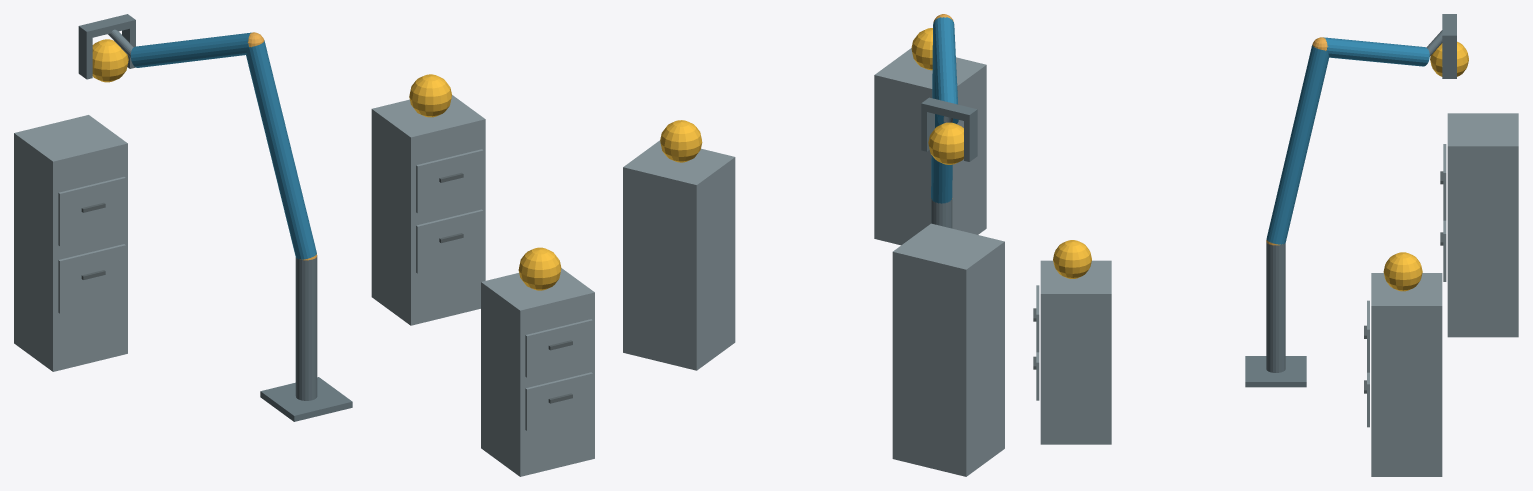
3 renders of one model, left to right at view 1: azimuth 30°, elevation 25°; view 2: azimuth 150°, elevation 25°; view 3: azimuth 270°, elevation 25°, orthographic. The views are drawn at different scales.
Visible parts, largest first — view 1: cabinet_3 body, cabinet_2 body, cabinet_1 body, moving link 1, cabinet_3 drawer front.001, cabinet_3 drawer front, cabinet_2 drawer front, cabinet_2 drawer front.001, fixed post, cabinet_1 drawer front, cabinet_1 drawer front.001, moving link 2 (+6 smaller); view 2: cabinet_3 body, cabinet_2 body, cabinet_1 body, moving link 2, released ball_2, ball ball_3, moving link 1, gripper bridge, released ball_1, gripper finger -1, fixed post, gripper finger 1; view 3: cabinet_3 body, cabinet_2 body, cabinet_1 body, moving link 1, fixed post, moving link 2, pedestal, released ball_2, released ball_1, ball ball_3, gripper finger 1.
Boxes of the visible parts, box(x1,y1,x2,y2) form: cabinet_3 body: box(14, 115, 127, 371); cabinet_2 body: box(371, 95, 485, 325); cabinet_1 body: box(481, 268, 594, 476); moving link 1: box(246, 40, 316, 259); cabinet_3 drawer front.001: box(58, 177, 125, 246); cabinet_3 drawer front: box(58, 244, 125, 313); cabinet_2 drawer front: box(416, 209, 483, 273); cabinet_2 drawer front.001: box(416, 149, 483, 213); fixed post: box(295, 256, 317, 400); cabinet_1 drawer front: box(525, 372, 592, 430); cabinet_1 drawer front.001: box(525, 319, 592, 377); moving link 2: box(130, 32, 251, 67); cabinet_3 body: box(892, 223, 1004, 476); cabinet_2 body: box(623, 140, 735, 370); cabinet_1 body: box(874, 48, 986, 245); moving link 2: box(933, 17, 958, 124); released ball_2: box(660, 120, 702, 162); ball ball_3: box(928, 122, 963, 164); moving link 1: box(931, 27, 952, 203); gripper bridge: box(921, 97, 977, 122); released ball_1: box(911, 28, 932, 70); gripper finger -1: box(964, 117, 977, 161); fixed post: box(931, 198, 952, 228); gripper finger 1: box(921, 110, 934, 151); cabinet_3 body: box(1447, 113, 1518, 337); cabinet_2 body: box(1371, 273, 1442, 476); cabinet_1 body: box(1040, 260, 1111, 444); moving link 1: box(1266, 45, 1329, 244); fixed post: box(1266, 242, 1285, 372); moving link 2: box(1323, 37, 1429, 66); pedestal: box(1245, 356, 1306, 387); released ball_2: box(1383, 252, 1422, 291); released ball_1: box(1053, 240, 1091, 278); ball ball_3: box(1430, 41, 1468, 76); gripper finger 1: box(1442, 42, 1456, 78).
Size of the model in its own units: 1.67 by 1.46 by 1.98.
